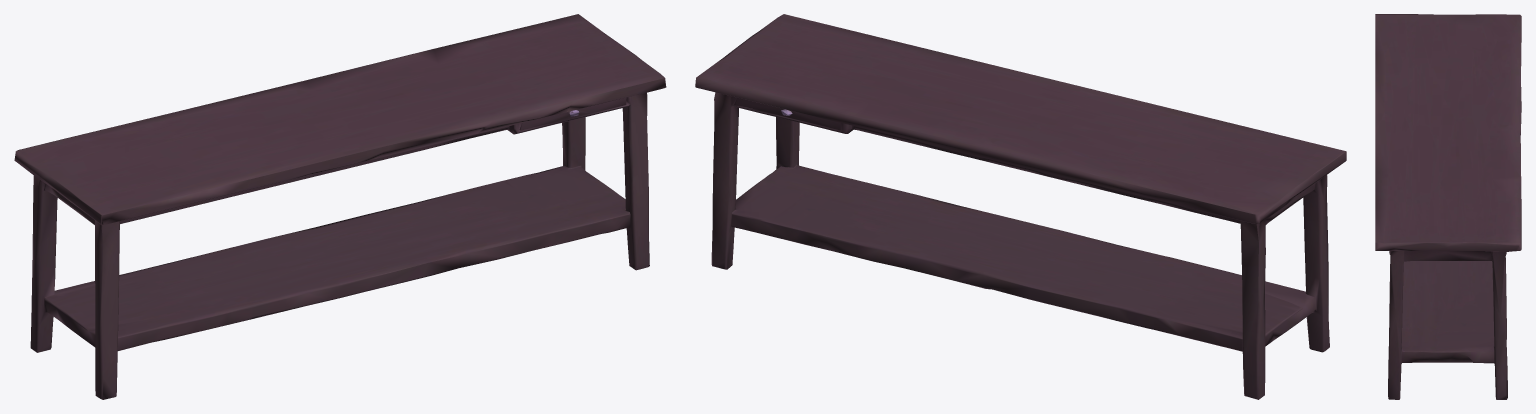
The model's file is desk.glb.
3 views of the same model, side by side, from view 1: azimuth 30°, elevation 25°; view 2: azimuth 150°, elevation 25°; view 3: azimuth 270°, elevation 25° (orthographic). The views are drawn at different scales.
Visible parts, largest first — view 1: desk; view 2: desk; view 3: desk.
Boxes of the visible parts, left/top/right/bottom form: desk: left=14, top=14, right=666, bottom=399; desk: left=695, top=14, right=1346, bottom=399; desk: left=1375, top=14, right=1521, bottom=399.
Size of the model in its own units: 2.3 by 0.7503 by 0.6203.
Materials: 1 (1 with a texture image).
